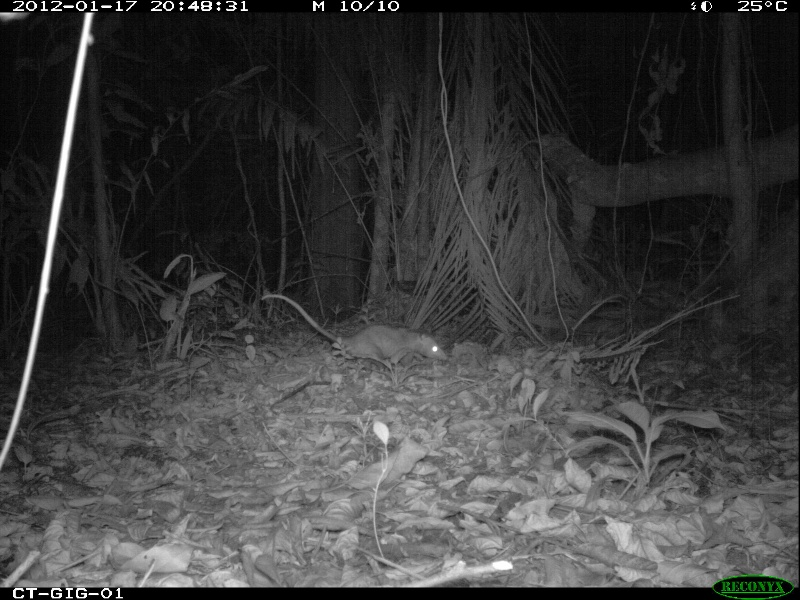opossum: (258, 288, 452, 374)
